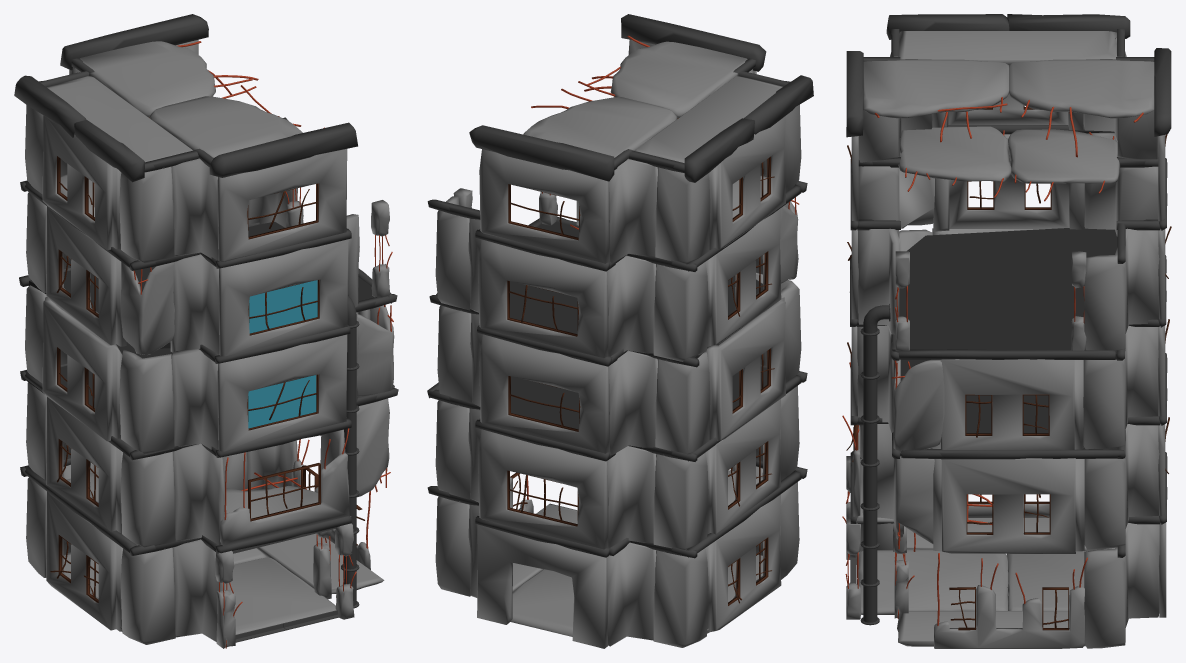
File: SM_building_ruins_01.fbx
3 renders of one model, left to right at view 1: azimuth 30°, elevation 25°; view 2: azimuth 150°, elevation 25°; view 3: azimuth 270°, elevation 25°, orthographic. The views are drawn at different scales.
Visible parts, largest first — view 1: Object32432; view 2: Object32432; view 3: Object32432.
Boxes of the visible parts, x1,y1,x2,y2 form: Object32432: (14,14,398,648); Object32432: (427,14,813,648); Object32432: (842,14,1171,648).
Size of the model in its own units: 430 by 725 by 429.
